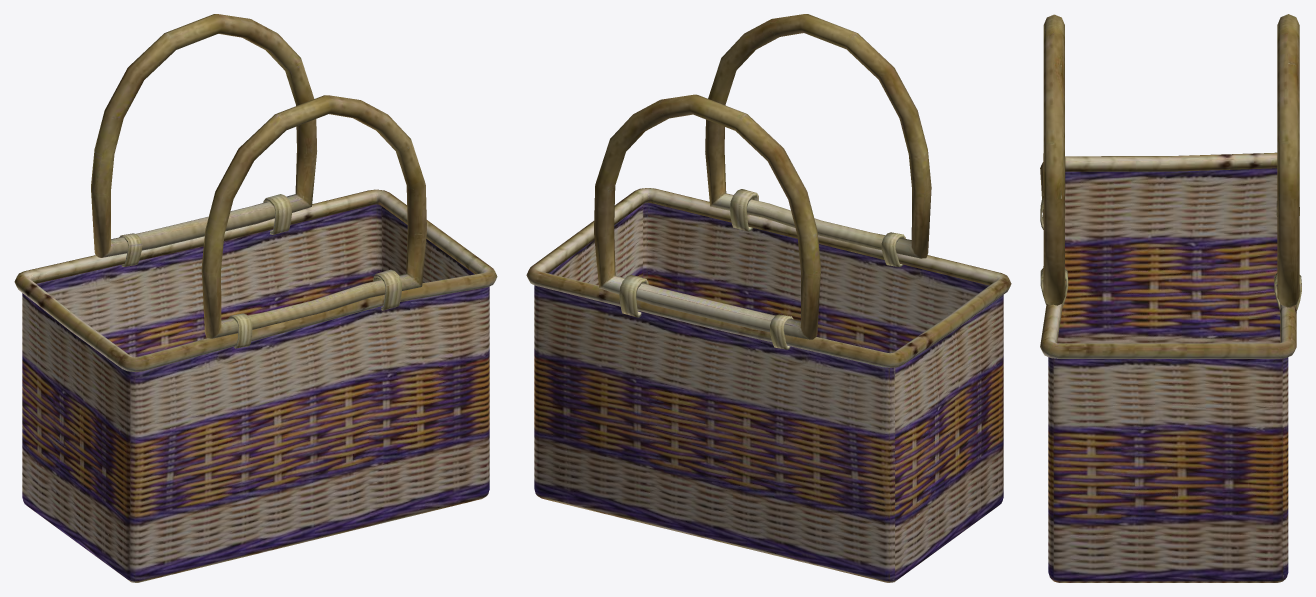
3 views of the same model, side by side, from view 1: azimuth 30°, elevation 25°; view 2: azimuth 150°, elevation 25°; view 3: azimuth 270°, elevation 25° (orthographic). The views are drawn at different scales.
Bounding box in the file's own units: 0.266 × 0.3 × 0.1515.
1 material, 1 textured.
